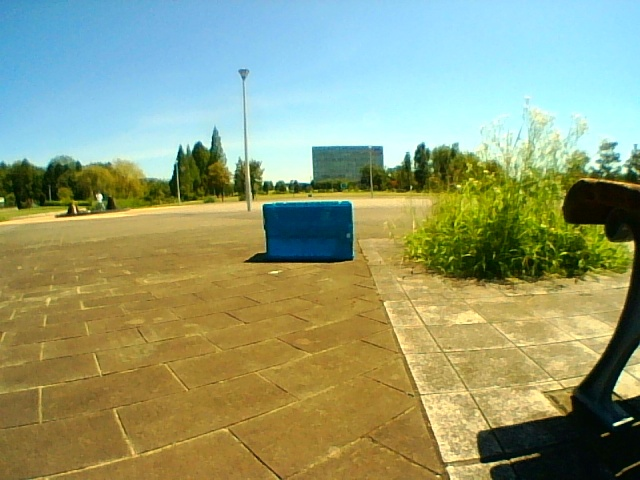blue_box: (268, 203, 352, 256)
